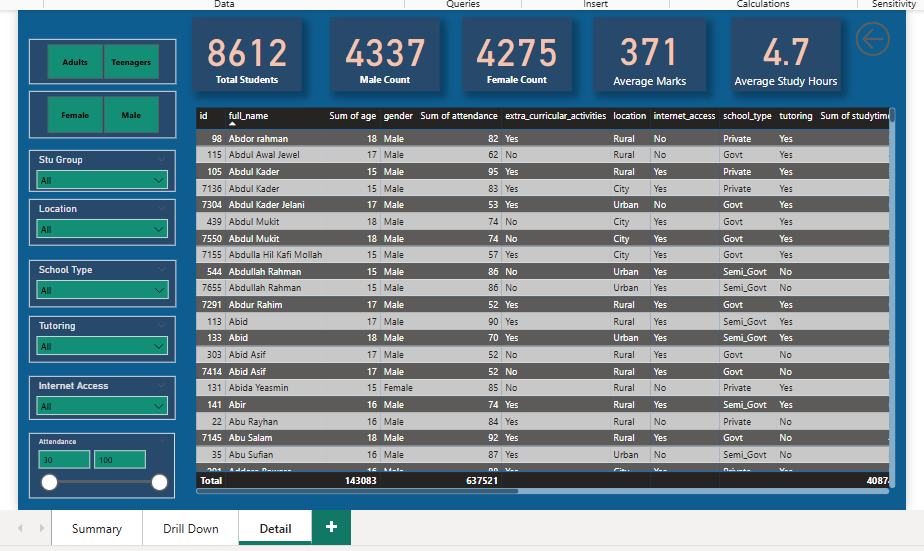

The dashboard page shown, as its layout file describes it:
{"tool":"powerbi","page":{"name":"Detail","canvas":[1280,720],"ordinal":2},"visuals":[{"type":"tableEx","fields":{"Values":["bd_students_per.id","bd_students_per.full_name","bd_students_per.age","bd_students_per.gender","bd_students_per.attendance","bd_students_per.extra_curricular_activities","bd_students_per.location","bd_students_per.internet_access","bd_students_per.school_type","bd_students_per.tutoring","bd_students_per.studytime","bd_students_per.stu_group"]},"box":[250.6,135.4,1018.1,567.4],"z":0},{"type":"actionButton","box":[1199.5,10.1,69.1,63.4],"z":1000},{"type":"slicer","fields":{"Values":["bd_students_per.Age Group"]},"box":[15.8,41.8,211.7,64.8],"z":2000},{"type":"slicer","fields":{"Values":["bd_students_per.gender"]},"box":[15.8,116.6,211.7,67.7],"z":3000},{"type":"slicer","fields":{"Values":["bd_students_per.stu_group"]},"box":[16.1,202,210.7,60],"z":4000},{"type":"slicer","fields":{"Values":["bd_students_per.location"]},"box":[16.1,272.2,210.7,67.3],"z":5000},{"type":"slicer","fields":{"Values":["bd_students_per.school_type"]},"box":[15.8,360,211.7,67.7],"z":6000},{"type":"slicer","fields":{"Values":["bd_students_per.tutoring"]},"box":[16.1,440.5,210.7,67.3],"z":7000},{"type":"slicer","fields":{"Values":["bd_students_per.attendance"]},"box":[15.8,609.1,210.2,93.6],"z":8000},{"type":"slicer","fields":{"Values":["bd_students_per.internet_access"]},"box":[16.1,526.8,210.7,62.9],"z":9000},{"type":"card","fields":{"Values":["bd_students_per.id"]},"box":[250.6,10.1,158.4,106.6],"z":10000},{"type":"card","fields":{"Values":["bd_students_per.TotalMarks"]},"box":[828,10.1,162.7,106.6],"z":11000},{"type":"card","fields":{"Values":["bd_students_per.studytime"]},"box":[1026.7,10.1,158.4,106.6],"z":12000},{"type":"card","fields":{"Values":["bd_students_per.Male Count"]},"box":[449.3,10.1,158.4,106.6],"z":13000},{"type":"card","fields":{"Values":["bd_students_per.Female Count"]},"box":[639.4,10.1,158.4,106.6],"z":14000}]}

Visuals, with their boxes on the page's 1280x720 design canvas (x1, y1, x2, y2). These are canvas units, not pixel positions in the 924x551 screenshot, which may show the page scaled, cropped or inside an application window:
tableEx - bd_students_per.id x bd_students_per.full_name: 251, 135, 1269, 703
actionButton: 1200, 10, 1269, 74
slicer - bd_students_per.Age Group: 16, 42, 228, 107
slicer - bd_students_per.gender: 16, 117, 228, 184
slicer - bd_students_per.stu_group: 16, 202, 227, 262
slicer - bd_students_per.location: 16, 272, 227, 340
slicer - bd_students_per.school_type: 16, 360, 228, 428
slicer - bd_students_per.tutoring: 16, 440, 227, 508
slicer - bd_students_per.attendance: 16, 609, 226, 703
slicer - bd_students_per.internet_access: 16, 527, 227, 590
card - bd_students_per.id: 251, 10, 409, 117
card - bd_students_per.TotalMarks: 828, 10, 991, 117
card - bd_students_per.studytime: 1027, 10, 1185, 117
card - bd_students_per.Male Count: 449, 10, 608, 117
card - bd_students_per.Female Count: 639, 10, 798, 117
